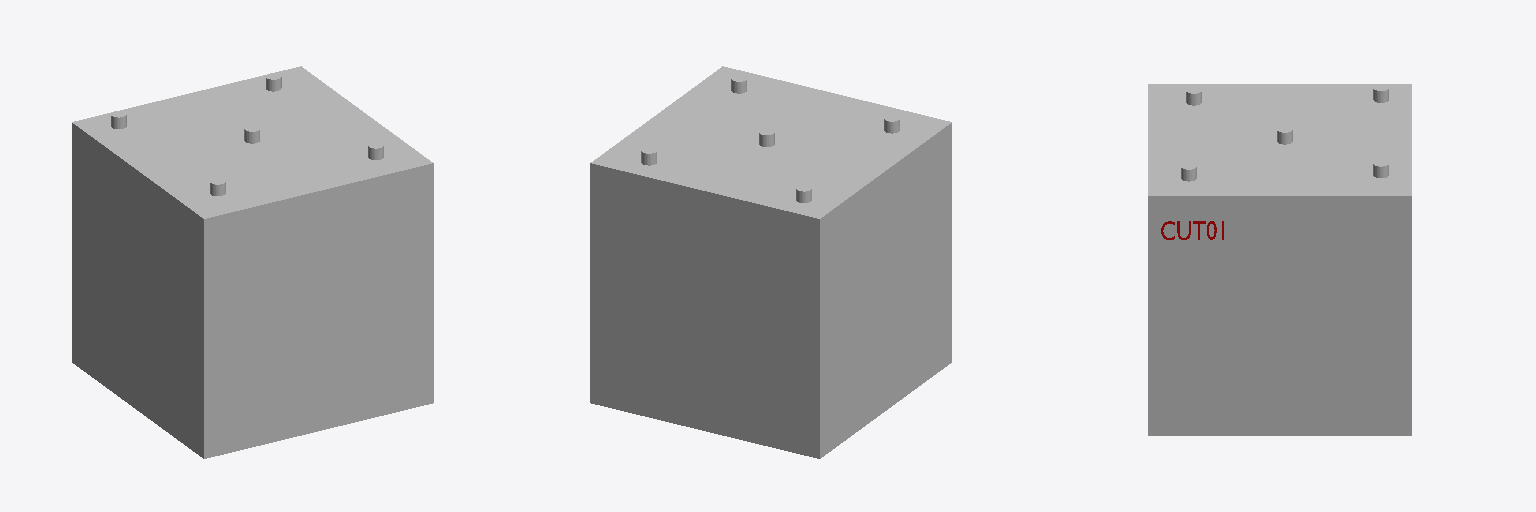
The model's file is cut.obj.
3 renders of one model, left to right at view 1: azimuth 30°, elevation 25°; view 2: azimuth 150°, elevation 25°; view 3: azimuth 270°, elevation 25°, orthographic.
Visible parts, largest first — view 1: Cube; view 2: Cube; view 3: Cube.
Part boxes in pixels (left/top/right/bottom): Cube: left=72, top=66, right=433, bottom=458; Cube: left=590, top=66, right=951, bottom=458; Cube: left=1148, top=84, right=1411, bottom=435.
Size of the model in its own units: 2.06 by 2.1 by 2.